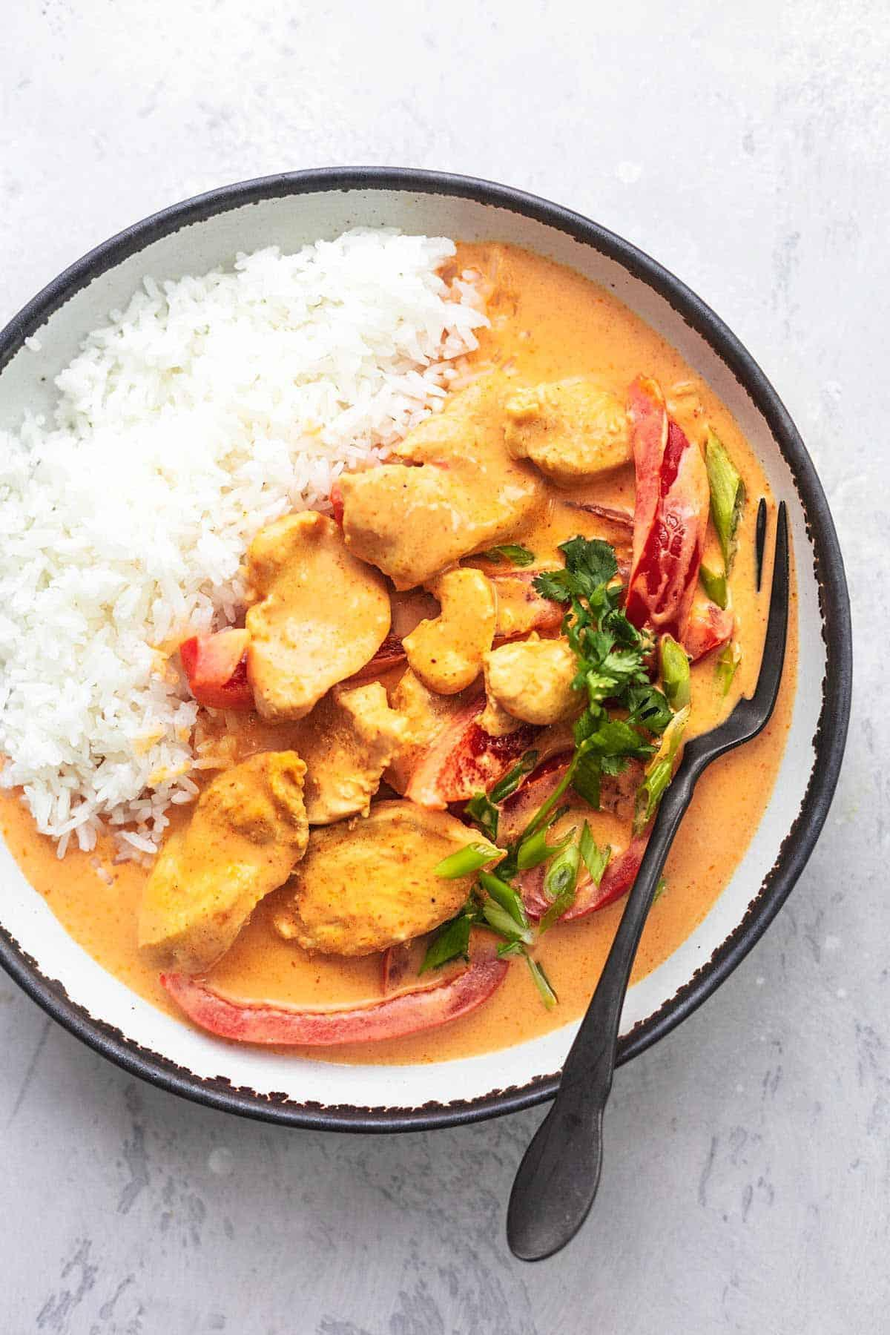chicken: (234, 462, 716, 1041)
rice: (41, 269, 222, 808)
